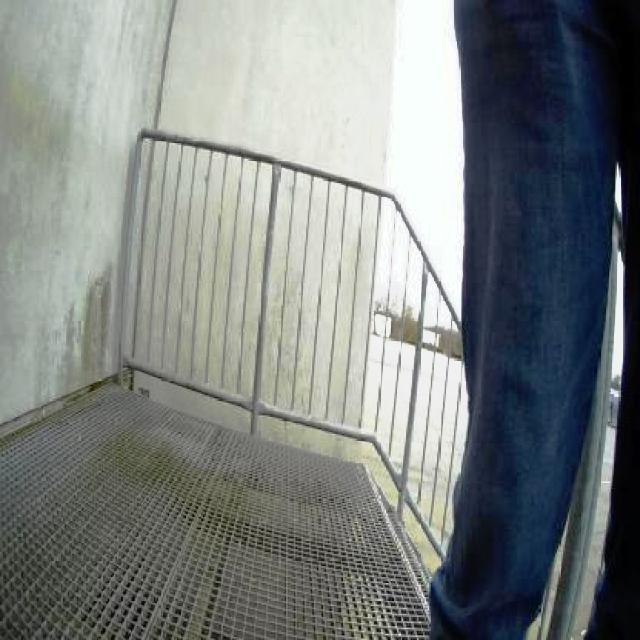ground: (0, 374, 438, 638)
